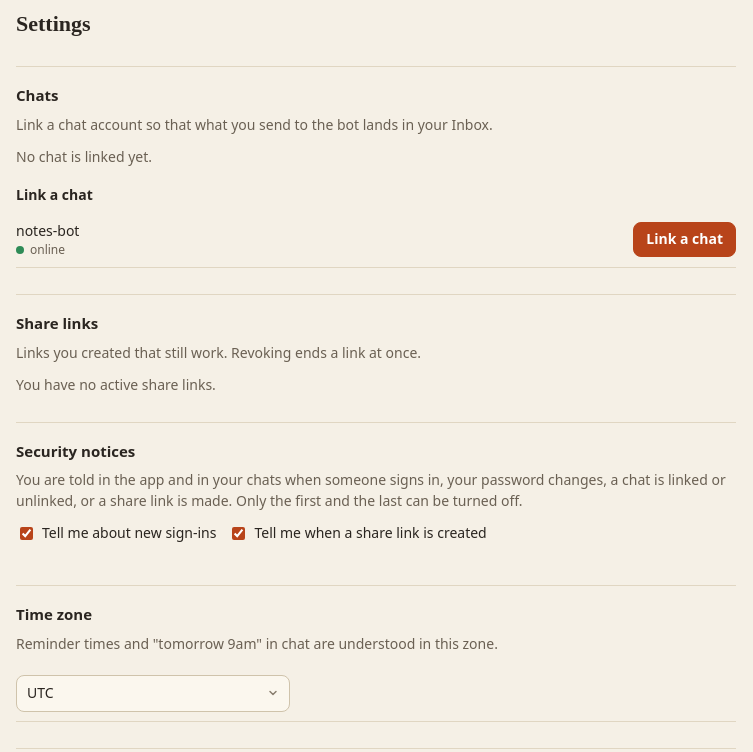
Test: SettingsPage pairing › falls back to the bot name until the bot has reported an address
Click the button "Link a chat": (685, 239) [633,222,736,256]
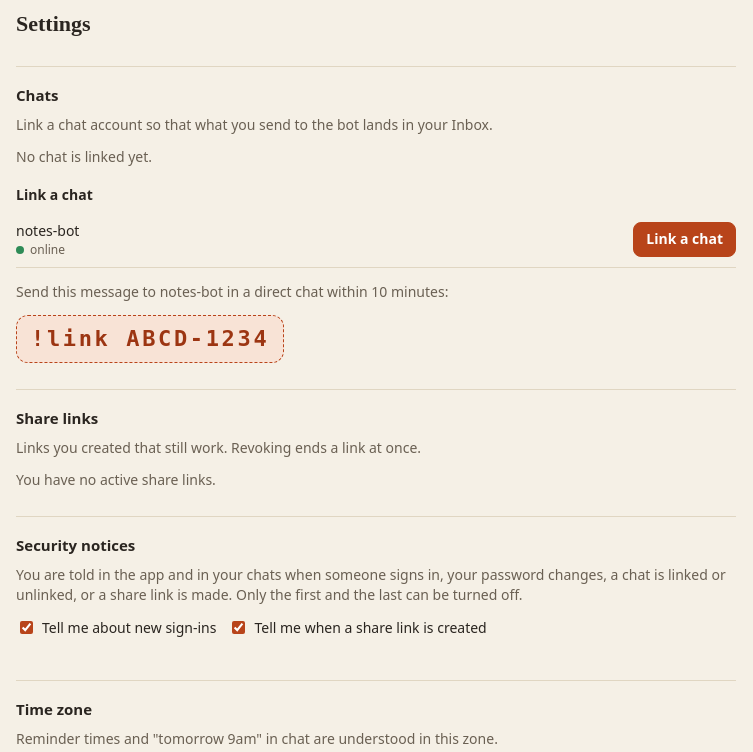
Now the text "Send this message to notes-bot" is shown, box [16,282,448,301]
